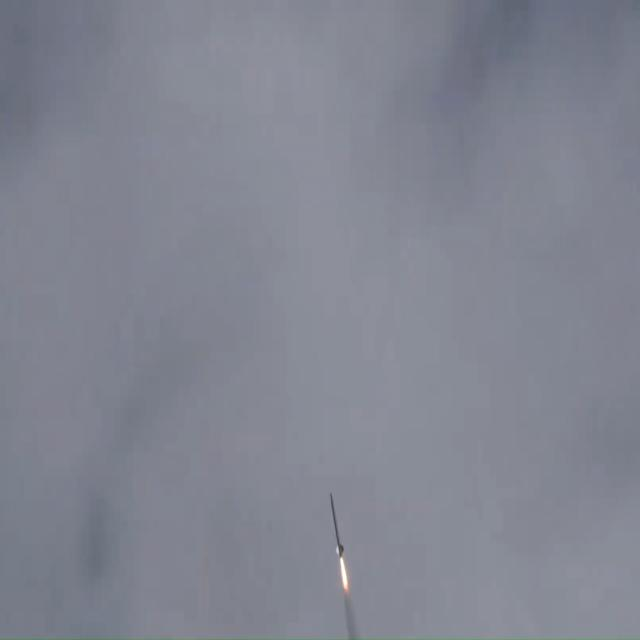Rocket: (330, 492, 344, 561)
